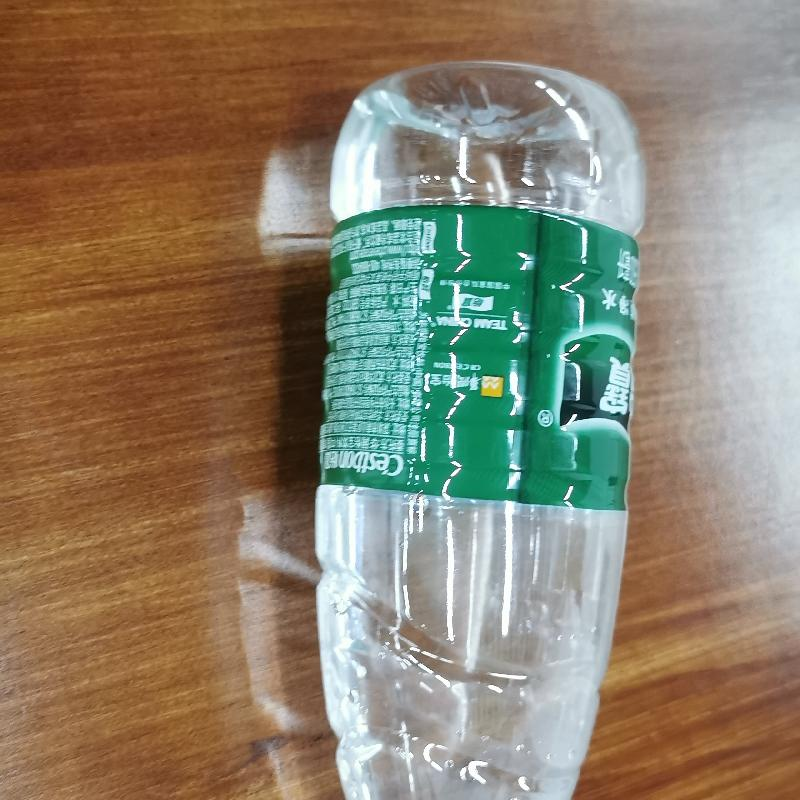bottles: (306, 62, 661, 799)
